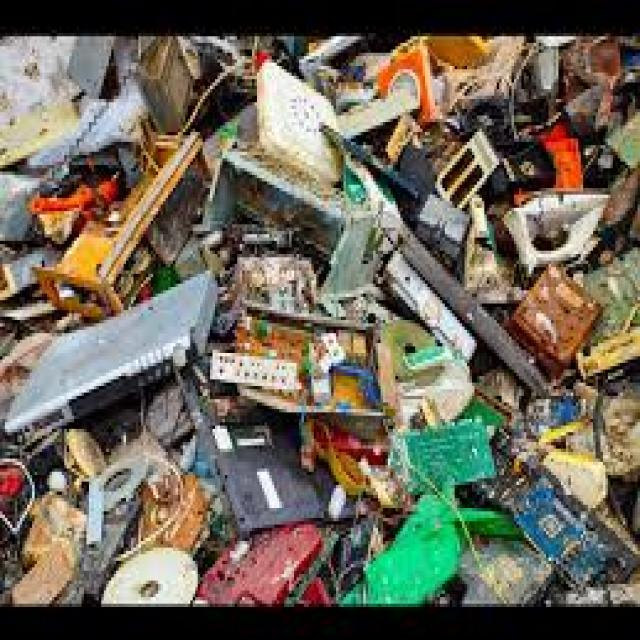Hazard: (51, 44, 640, 568)
